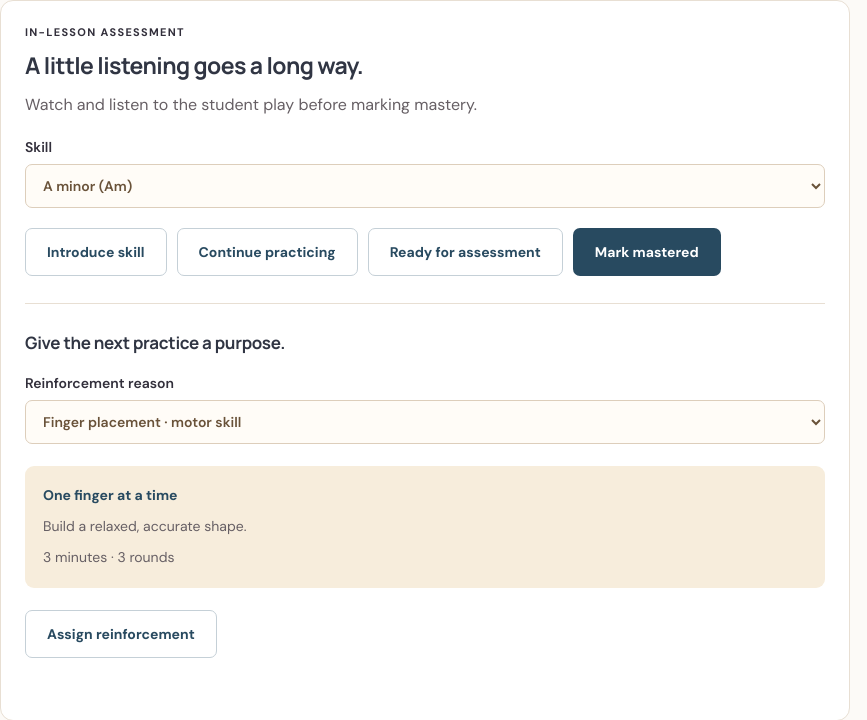
Scenario: does not mutate assessment when targeted reinforcement is locked
Select "Rhythm · motor skill" in the dropdown labelled "Reinforcement reason" at (425, 422), box 25,400 -> 825,444
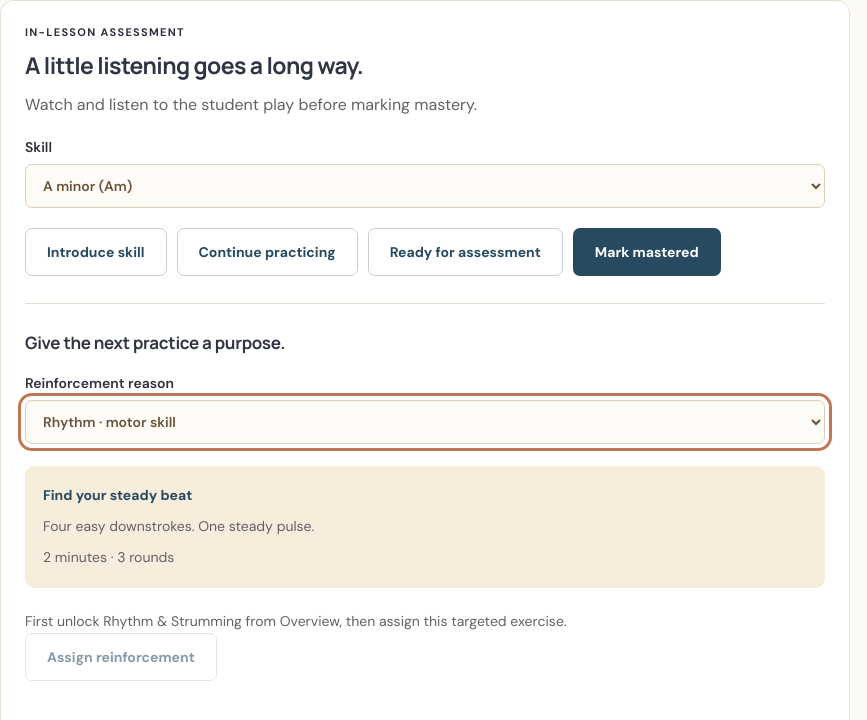
Expected: the button "Assign reinforcement" is disabled, 25,633 -> 217,681
